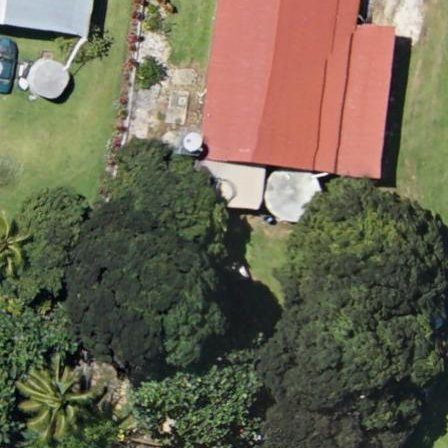palm_tree: (20, 364, 89, 437)
